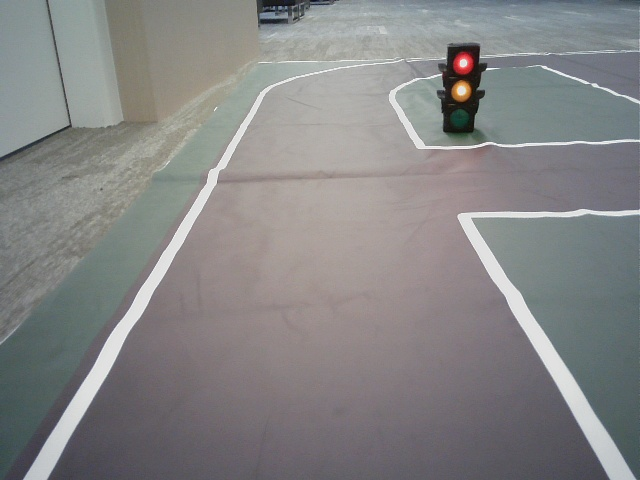red: (446, 46, 474, 129)
